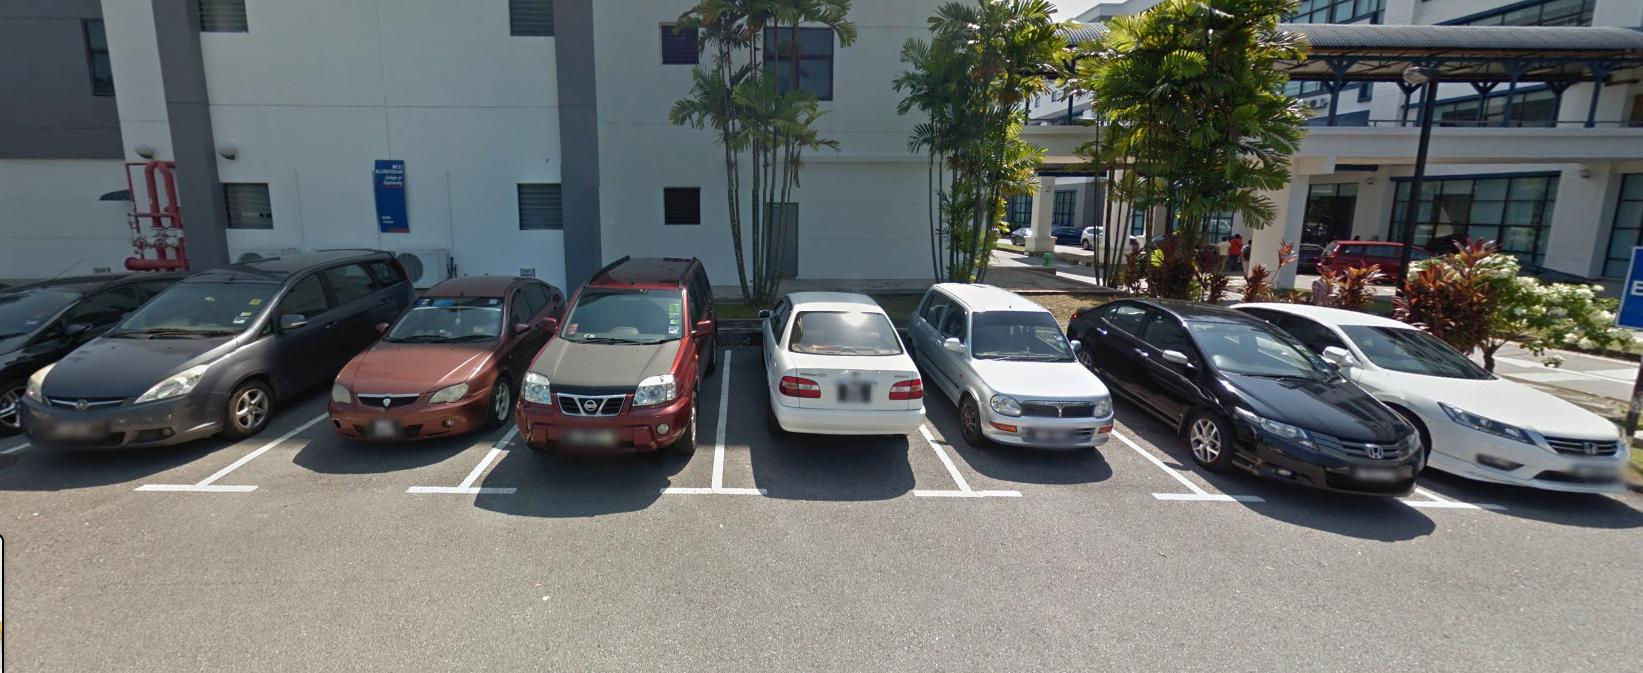Car: (19, 238, 370, 486), (1258, 277, 1640, 501), (1079, 276, 1417, 511), (334, 245, 549, 478), (919, 262, 1125, 487), (539, 240, 704, 466), (762, 284, 929, 463), (0, 252, 150, 331), (567, 248, 586, 249)
